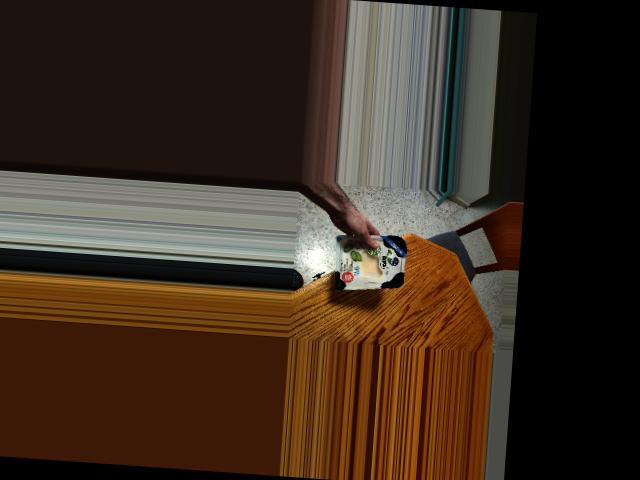cheese: (320, 233, 419, 294)
